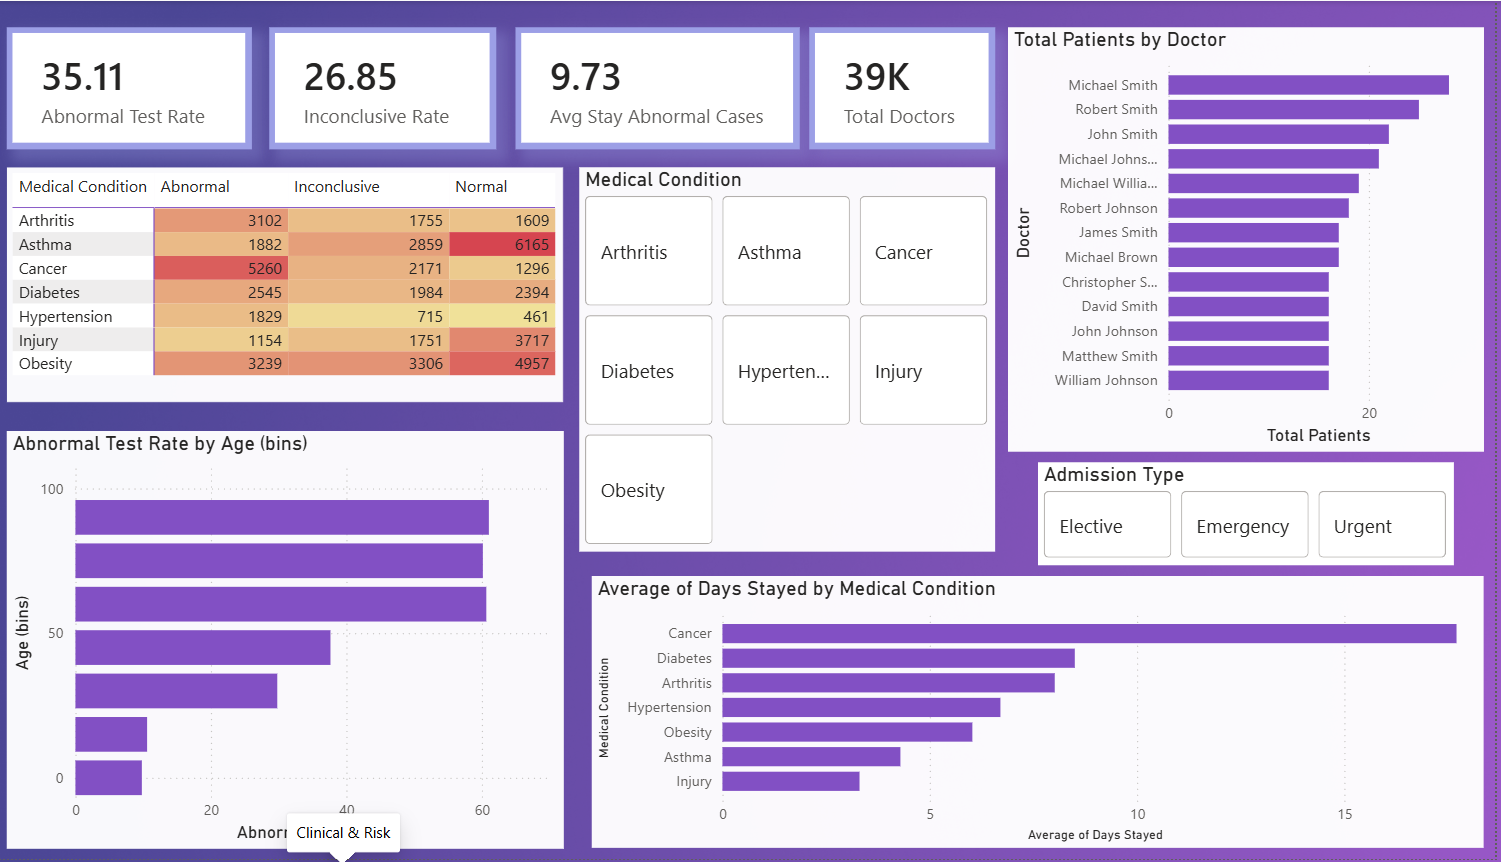

This screenshot's page, from the dashboard's own definition file:
{"tool":"powerbi","page":{"name":"Condition Deep-Dive","canvas":[1280,720],"ordinal":1},"visuals":[{"type":"shape","box":[533.2,188.2,734.7,184.6],"z":0},{"type":"shape","box":[4.8,188.2,515.2,184.6],"z":1000},{"type":"shape","box":[679.2,382.4,588.7,329.4],"z":2000},{"type":"shape","box":[4.8,382.4,664.7,329.4],"z":3000},{"type":"shape","box":[4.8,84.5,208.7,94.1],"z":4000},{"type":"shape","box":[225.6,84.5,208.7,94.1],"z":5000},{"type":"shape","box":[447.6,84.5,208.7,94.1],"z":6000},{"type":"shape","box":[669.6,86.9,208.7,94.1],"z":7000},{"type":"shape","box":[889.1,84.5,208.7,94.1],"z":8000},{"type":"shape","box":[0,0,1280,78.4],"z":9000},{"type":"cardVisual","fields":{"Data":["All Measures.Abnormal Test Rate"]},"box":[669.4,84.9,209,94],"z":10000},{"type":"cardVisual","fields":{"Data":["All Measures.Avg Stay Abnormal Cases"]},"box":[891.6,84.5,206.3,94.1],"z":11000},{"type":"slicer","title":"Medical Condition","fields":{"Values":["healthcare_data_clean.Medical Condition"]},"box":[1102.7,78.4,165.3,60.3],"z":12000},{"type":"pivotTable","fields":{"Columns":["healthcare_data_clean.Test Results1"],"Rows":["healthcare_data_clean.Medical Condition1"],"Values":["CountNonNull(healthcare_data_clean.Name)"]},"box":[4.8,185.8,515.2,196.6],"z":13000},{"type":"slicer","title":"Admission Type","fields":{"Values":["healthcare_data_clean.Admission Type"]},"box":[1102.7,131.5,165.3,56.7],"z":14000},{"type":"barChart","fields":{"Category":["healthcare_data_clean.Age (bins)"],"Y":["All Measures.Abnormal Test Rate"]},"box":[4.8,382.4,674.4,337.8],"z":15000},{"type":"scatterChart","fields":{"X":["Sum(healthcare_data_clean.Billing Amount)"],"Y":["Sum(healthcare_data_clean.Days Stayed)"],"Category":["healthcare_data_clean.Name"]},"box":[679.2,382.4,600.8,337.8],"z":16000},{"type":"cardVisual","fields":{"Data":["All Measures.Highest Condition Cost"]},"box":[226.1,84.9,209,94],"z":17000},{"type":"cardVisual","fields":{"Data":["All Measures.Highest Cost Insurance"]},"box":[447.8,84.9,209,94],"z":18000},{"type":"pivotTable","fields":{"Columns":["healthcare_data_clean.Insurance Provider"],"Rows":["healthcare_data_clean.Medical Condition"],"Values":["Avg(healthcare_data_clean.Billing Amount)"]},"box":[520,185.8,760.1,196.6],"z":19000},{"type":"cardVisual","fields":{"Data":["All Measures.Total Doctors"]},"box":[4.4,84.9,209,94],"z":20000},{"type":"cardVisual","fields":{"Data":["All Measures.Condition Page Title"]},"box":[0,15.7,587.5,54.3],"z":21000},{"type":"actionButton","box":[995.3,12.1,224.4,54.3],"z":22000},{"type":"actionButton","box":[1217.3,12.1,62.7,57.9],"z":23000},{"type":"image","box":[13.3,102.5,71.2,57.9],"z":24000},{"type":"image","box":[669.6,101.3,84.5,63.9],"z":25000},{"type":"image","box":[889.1,102.5,90.5,59.1],"z":26000},{"type":"image","box":[447.6,90.5,85.7,80.8],"z":27000},{"type":"image","box":[225.6,96.5,91.7,68.8],"z":28000},{"type":"shape","box":[4.8,18.1,56.7,51.9],"z":29000}]}

Visuals, with their boxes in screenshot pixels (x1, y1, x2, y2), scaled from the page's 1280x720 canvas onto the 1501x862 screenshot:
shape: pyautogui.locateOnScreen(625, 225, 1487, 446)
shape: pyautogui.locateOnScreen(6, 225, 610, 446)
shape: pyautogui.locateOnScreen(796, 458, 1487, 852)
shape: pyautogui.locateOnScreen(6, 458, 785, 852)
shape: pyautogui.locateOnScreen(6, 101, 250, 214)
shape: pyautogui.locateOnScreen(265, 101, 509, 214)
shape: pyautogui.locateOnScreen(525, 101, 770, 214)
shape: pyautogui.locateOnScreen(785, 104, 1030, 217)
shape: pyautogui.locateOnScreen(1043, 101, 1287, 214)
shape: pyautogui.locateOnScreen(0, 0, 1500, 94)
cardVisual - All Measures.Abnormal Test Rate: pyautogui.locateOnScreen(785, 102, 1030, 214)
cardVisual - All Measures.Avg Stay Abnormal Cases: pyautogui.locateOnScreen(1046, 101, 1287, 214)
"Medical Condition" slicer: pyautogui.locateOnScreen(1293, 94, 1487, 166)
pivotTable - healthcare_data_clean.Test Results1 x healthcare_data_clean.Medical Condition1: pyautogui.locateOnScreen(6, 222, 610, 458)
"Admission Type" slicer: pyautogui.locateOnScreen(1293, 157, 1487, 225)
barChart - healthcare_data_clean.Age (bins) x All Measures.Abnormal Test Rate: pyautogui.locateOnScreen(6, 458, 796, 861)
scatterChart - Sum(healthcare_data_clean.Billing Amount) x Sum(healthcare_data_clean.Days Stayed): pyautogui.locateOnScreen(796, 458, 1500, 861)
cardVisual - All Measures.Highest Condition Cost: pyautogui.locateOnScreen(265, 102, 510, 214)
cardVisual - All Measures.Highest Cost Insurance: pyautogui.locateOnScreen(525, 102, 770, 214)
pivotTable - healthcare_data_clean.Insurance Provider x healthcare_data_clean.Medical Condition: pyautogui.locateOnScreen(610, 222, 1500, 458)
cardVisual - All Measures.Total Doctors: pyautogui.locateOnScreen(5, 102, 250, 214)
cardVisual - All Measures.Condition Page Title: pyautogui.locateOnScreen(0, 19, 689, 84)
actionButton: pyautogui.locateOnScreen(1167, 14, 1430, 79)
actionButton: pyautogui.locateOnScreen(1427, 14, 1500, 84)
image: pyautogui.locateOnScreen(16, 123, 99, 192)
image: pyautogui.locateOnScreen(785, 121, 884, 198)
image: pyautogui.locateOnScreen(1043, 123, 1149, 193)
image: pyautogui.locateOnScreen(525, 108, 625, 205)
image: pyautogui.locateOnScreen(265, 116, 372, 198)
shape: pyautogui.locateOnScreen(6, 22, 72, 84)
